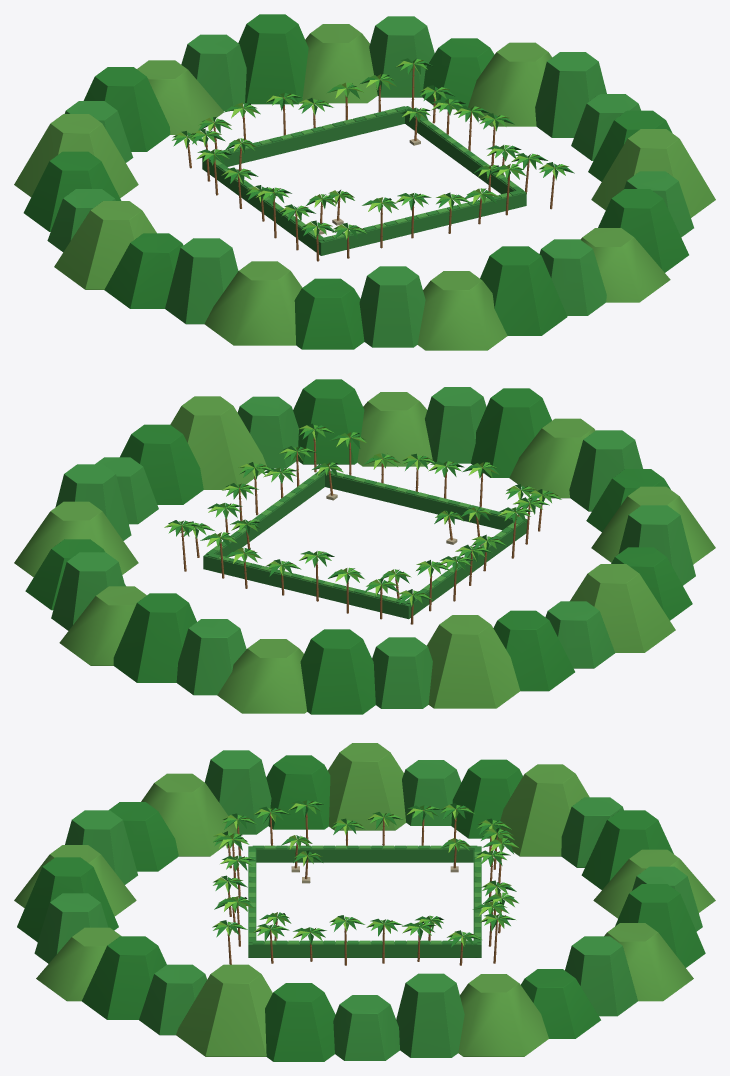
File: garden_border.glb
The picture shows the model from 3 angles, top to bottom: view 1: azimuth 30°, elevation 25°; view 2: azimuth 150°, elevation 25°; view 3: azimuth 270°, elevation 25°; orthographic projection.
Parts seen in each view (by area): view 1: garden_border; view 2: garden_border; view 3: garden_border.
Part boxes in pixels (<box>): garden_border: <box>14,14,715,350</box>; garden_border: <box>14,379,715,714</box>; garden_border: <box>14,743,715,1061</box>.
Bounding box in the file's own units: 128 × 14.05 × 137.
